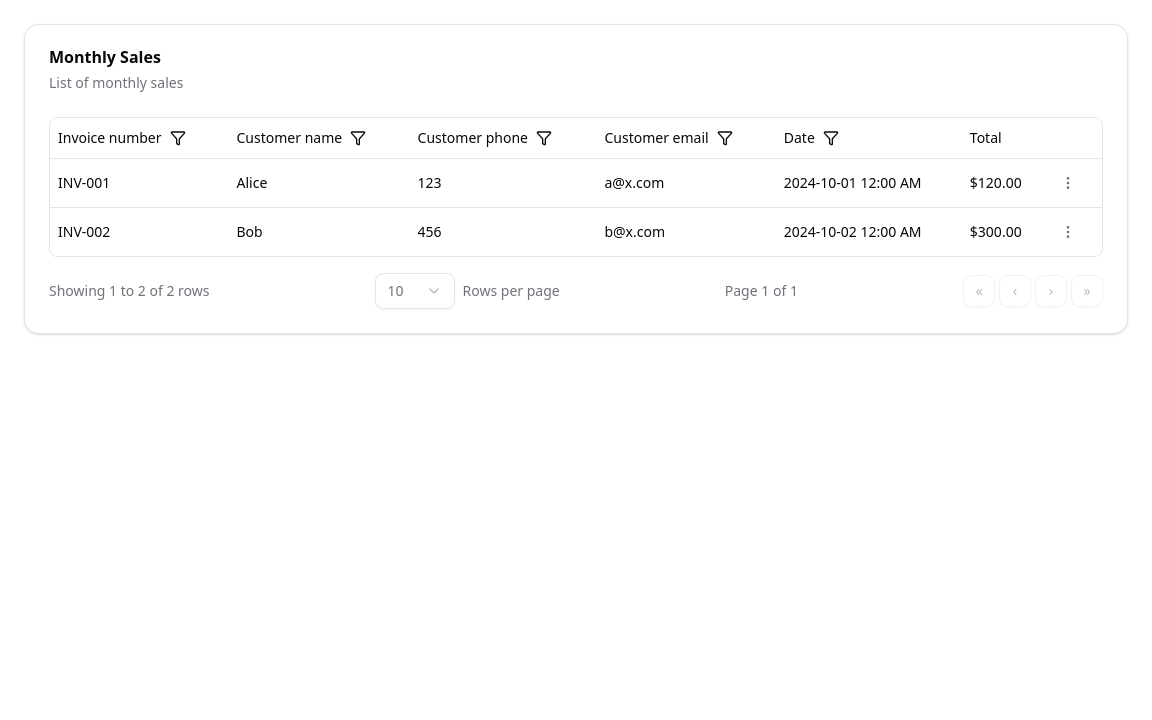
Scenario: Monthly sales report pagination and filters › applies customer name filter
This screenshot has width=1152, height=720.
Check: the text "INV-001" is shown, box 50,158 -> 228,207
Note: Open filter popover / dropdown
Click the button without text next to "Customer name": x=358, y=138 346,126 -> 370,150
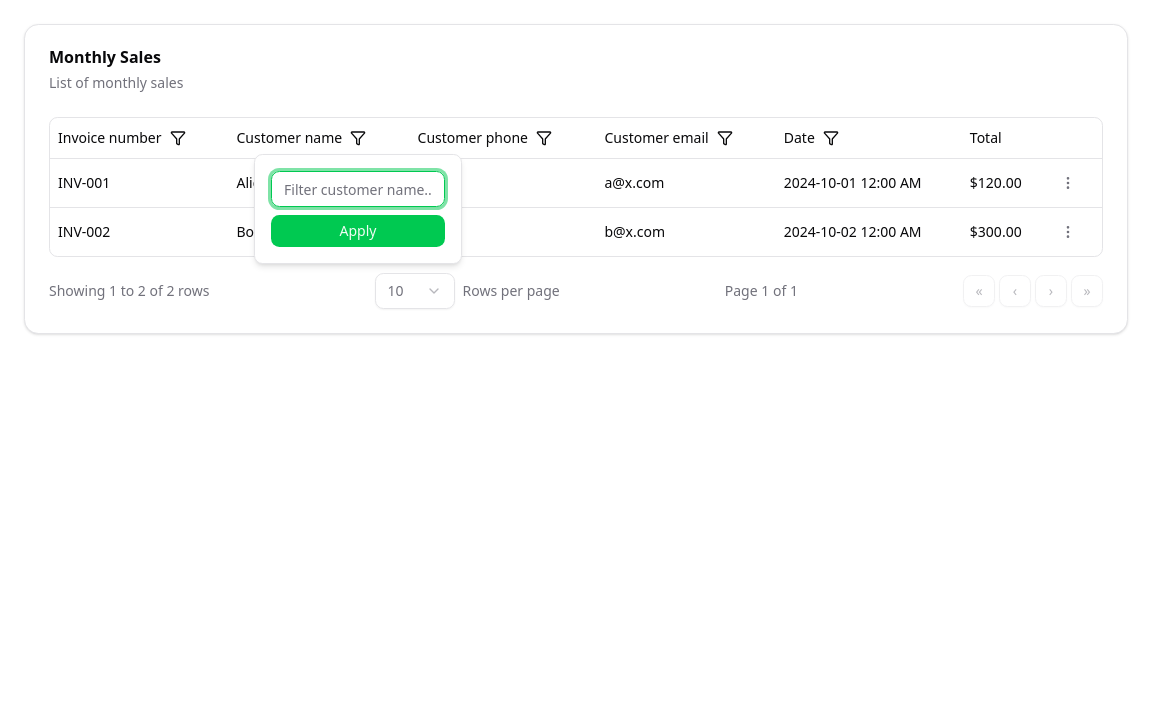
Note: Type the value to filter by (Bob)
In the field with placeholder "Filter customer name...": x=358, y=189 271,171 -> 445,207, type "Bob"
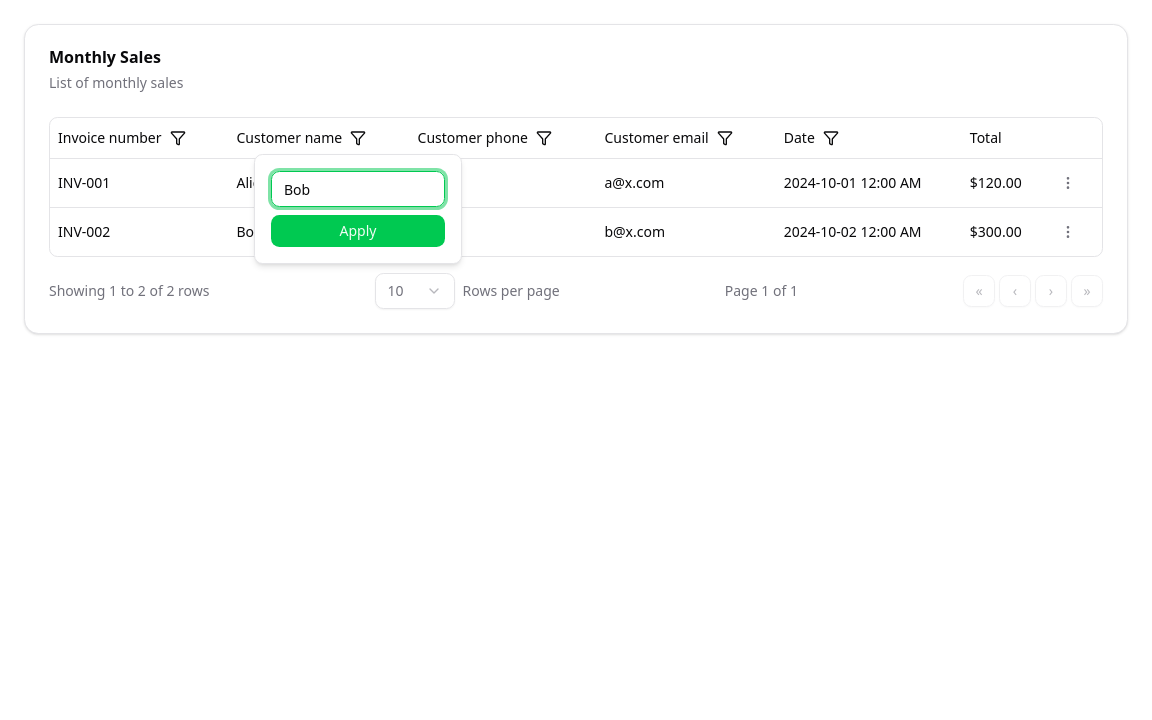
Note: Click "Apply" to trigger a refetch with filters
Click the button "Apply": x=358, y=231 271,215 -> 445,247
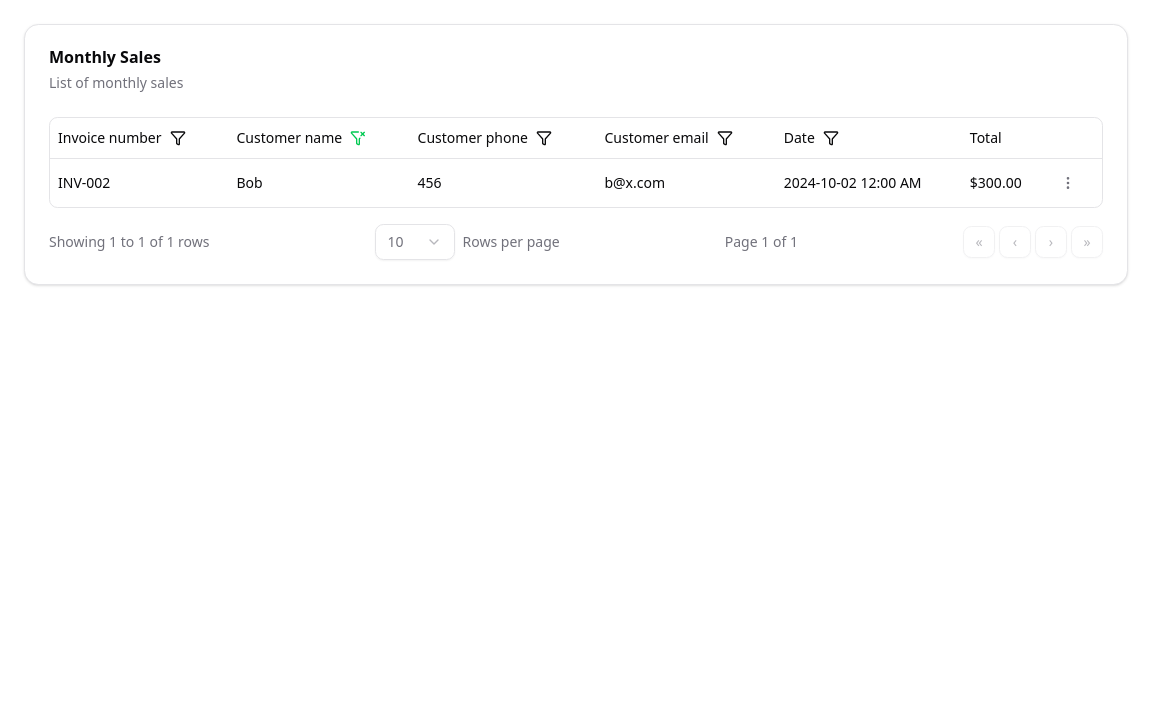
Check: the text "INV-002" is shown, box 50,158 -> 228,206
Check: the text "INV-001" is gone
